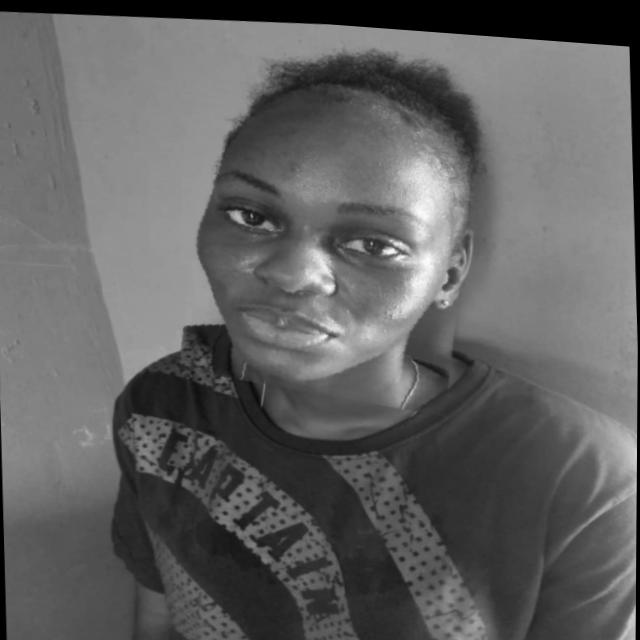happy: (178, 42, 481, 411)
